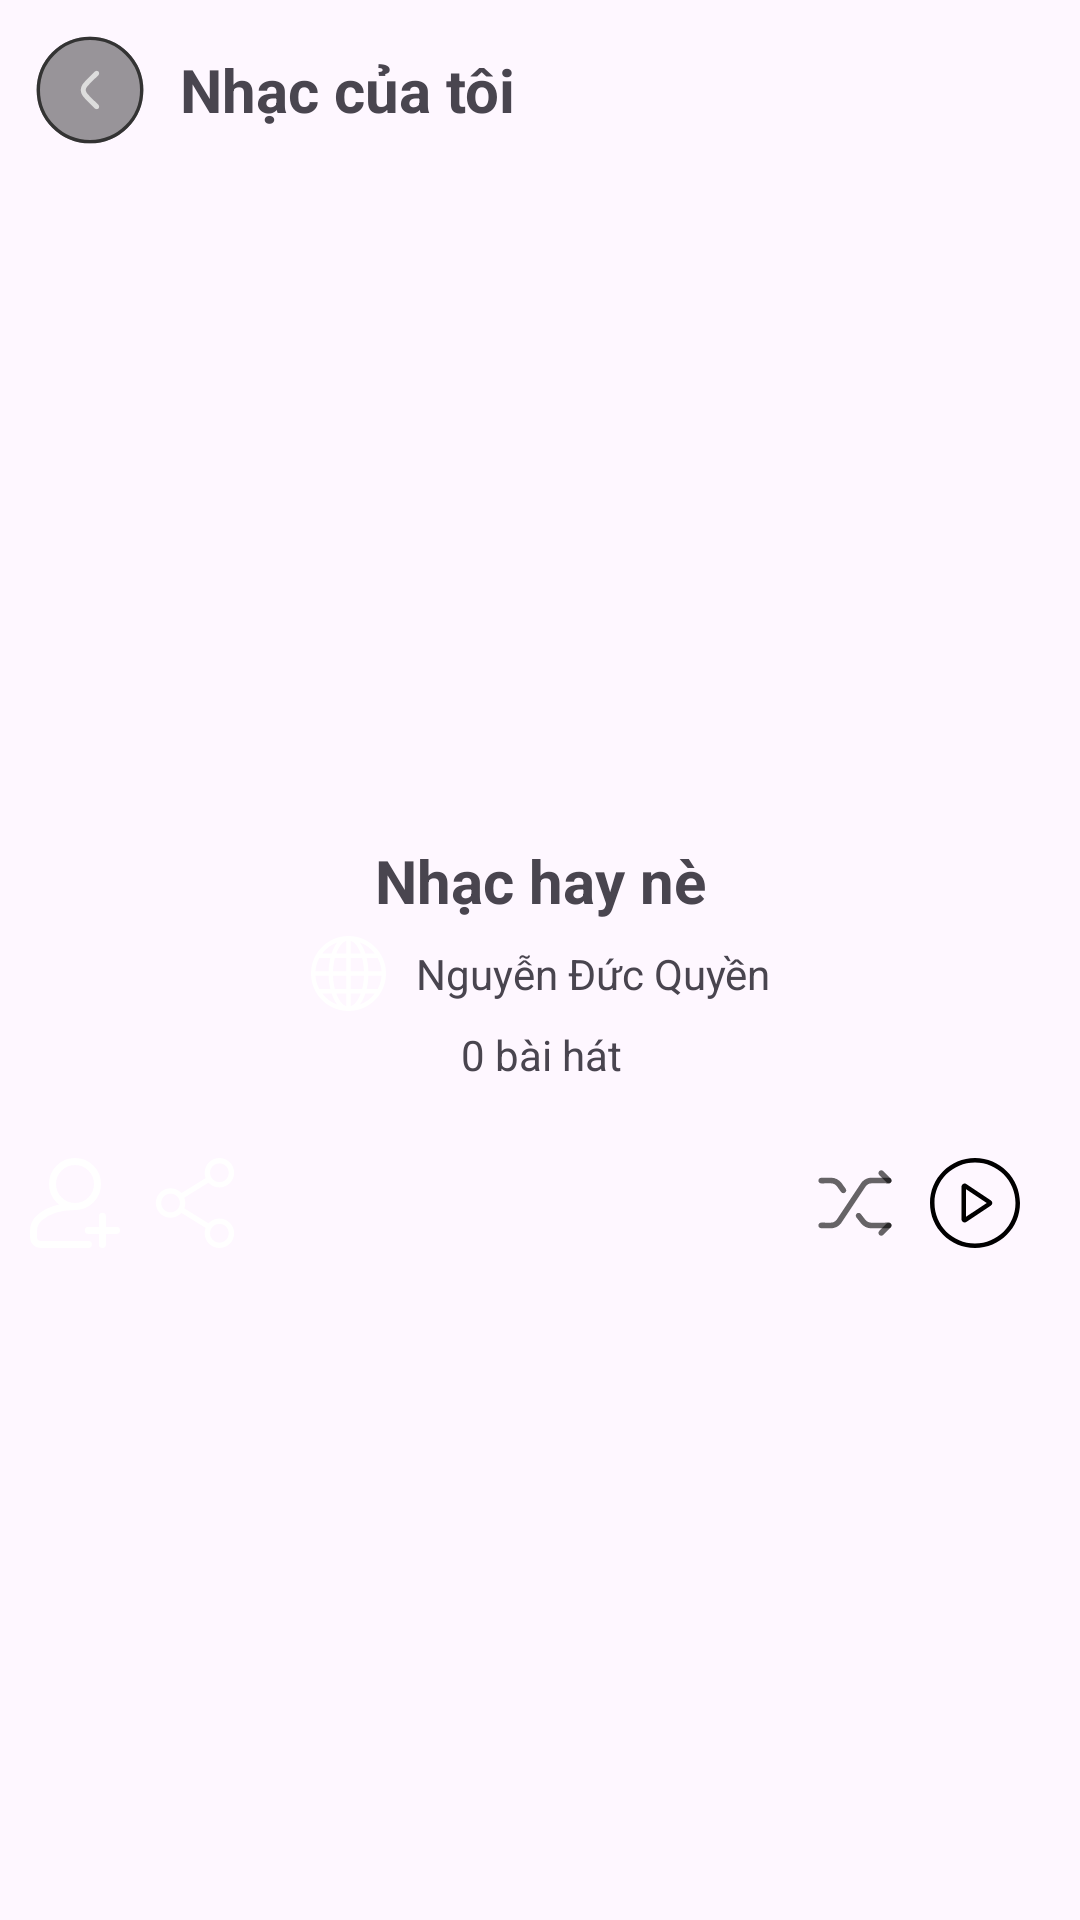

Named icons in this screenshot (1080 x 1920) and their bounding boxes, (x1, y1, x2, y2):
back: (36, 36, 144, 144)
play: (930, 1158, 1020, 1248)
shuffle: (818, 1170, 892, 1236)
